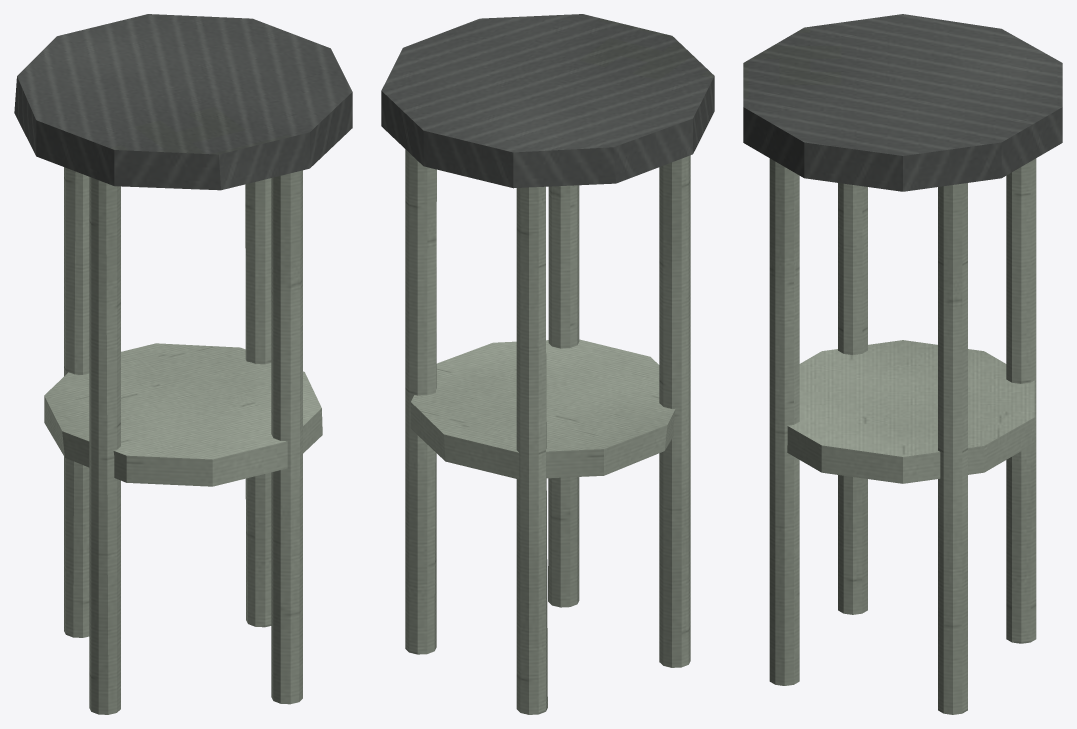
File: stool_v1.glb
The picture shows the model from 3 angles, left to right: view 1: azimuth 30°, elevation 25°; view 2: azimuth 150°, elevation 25°; view 3: azimuth 270°, elevation 25°; orthographic projection.
Visible parts, largest first — view 1: Variant_stool_1; view 2: Variant_stool_1; view 3: Variant_stool_1.
Part boxes in pixels (box(x1,y1,x2,y2)): Variant_stool_1: box(14, 14, 352, 714); Variant_stool_1: box(381, 14, 714, 714); Variant_stool_1: box(743, 14, 1062, 714).
Bounding box in the file's own units: 0.34 × 0.64 × 0.3234.
2 materials, 2 textured.
